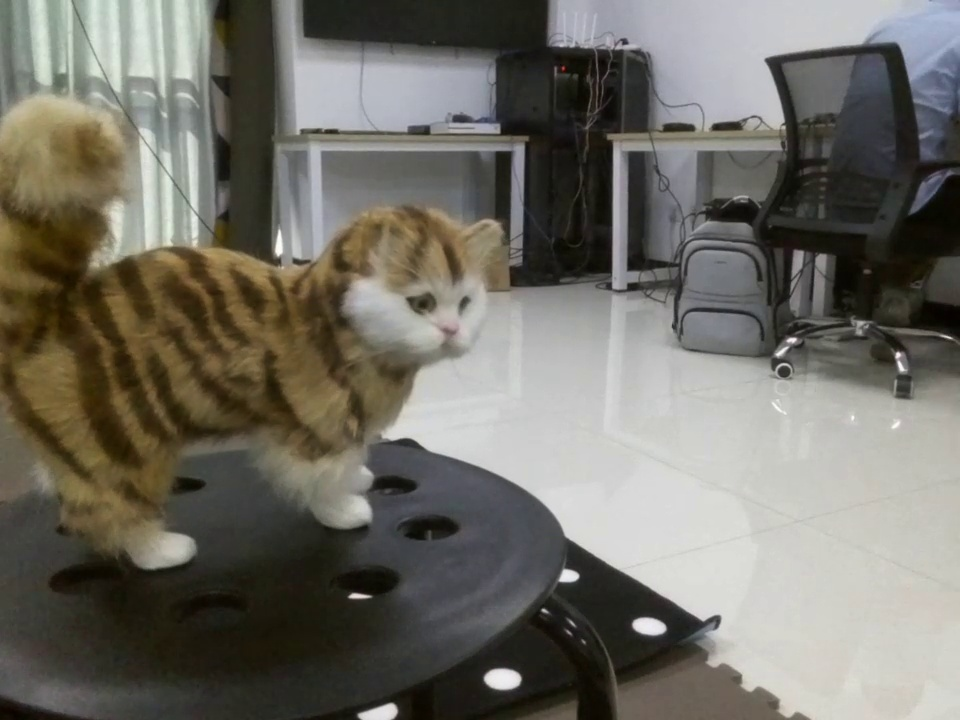cat: (1, 88, 549, 564)
